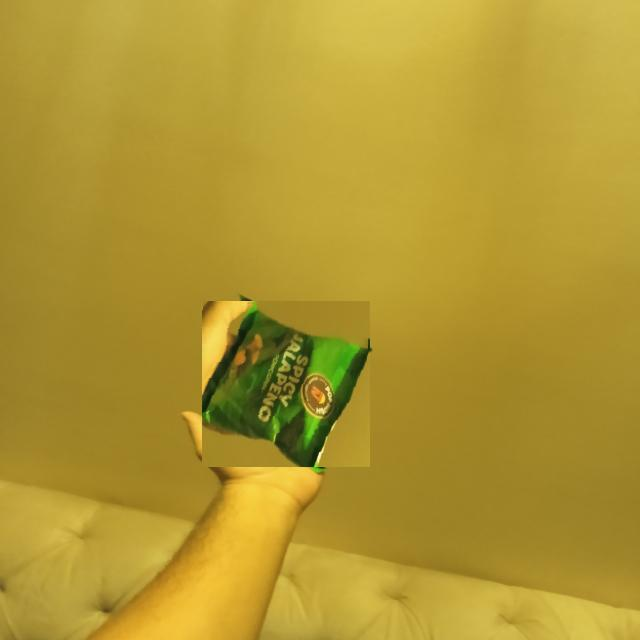Plastic: (202, 301, 370, 467)
